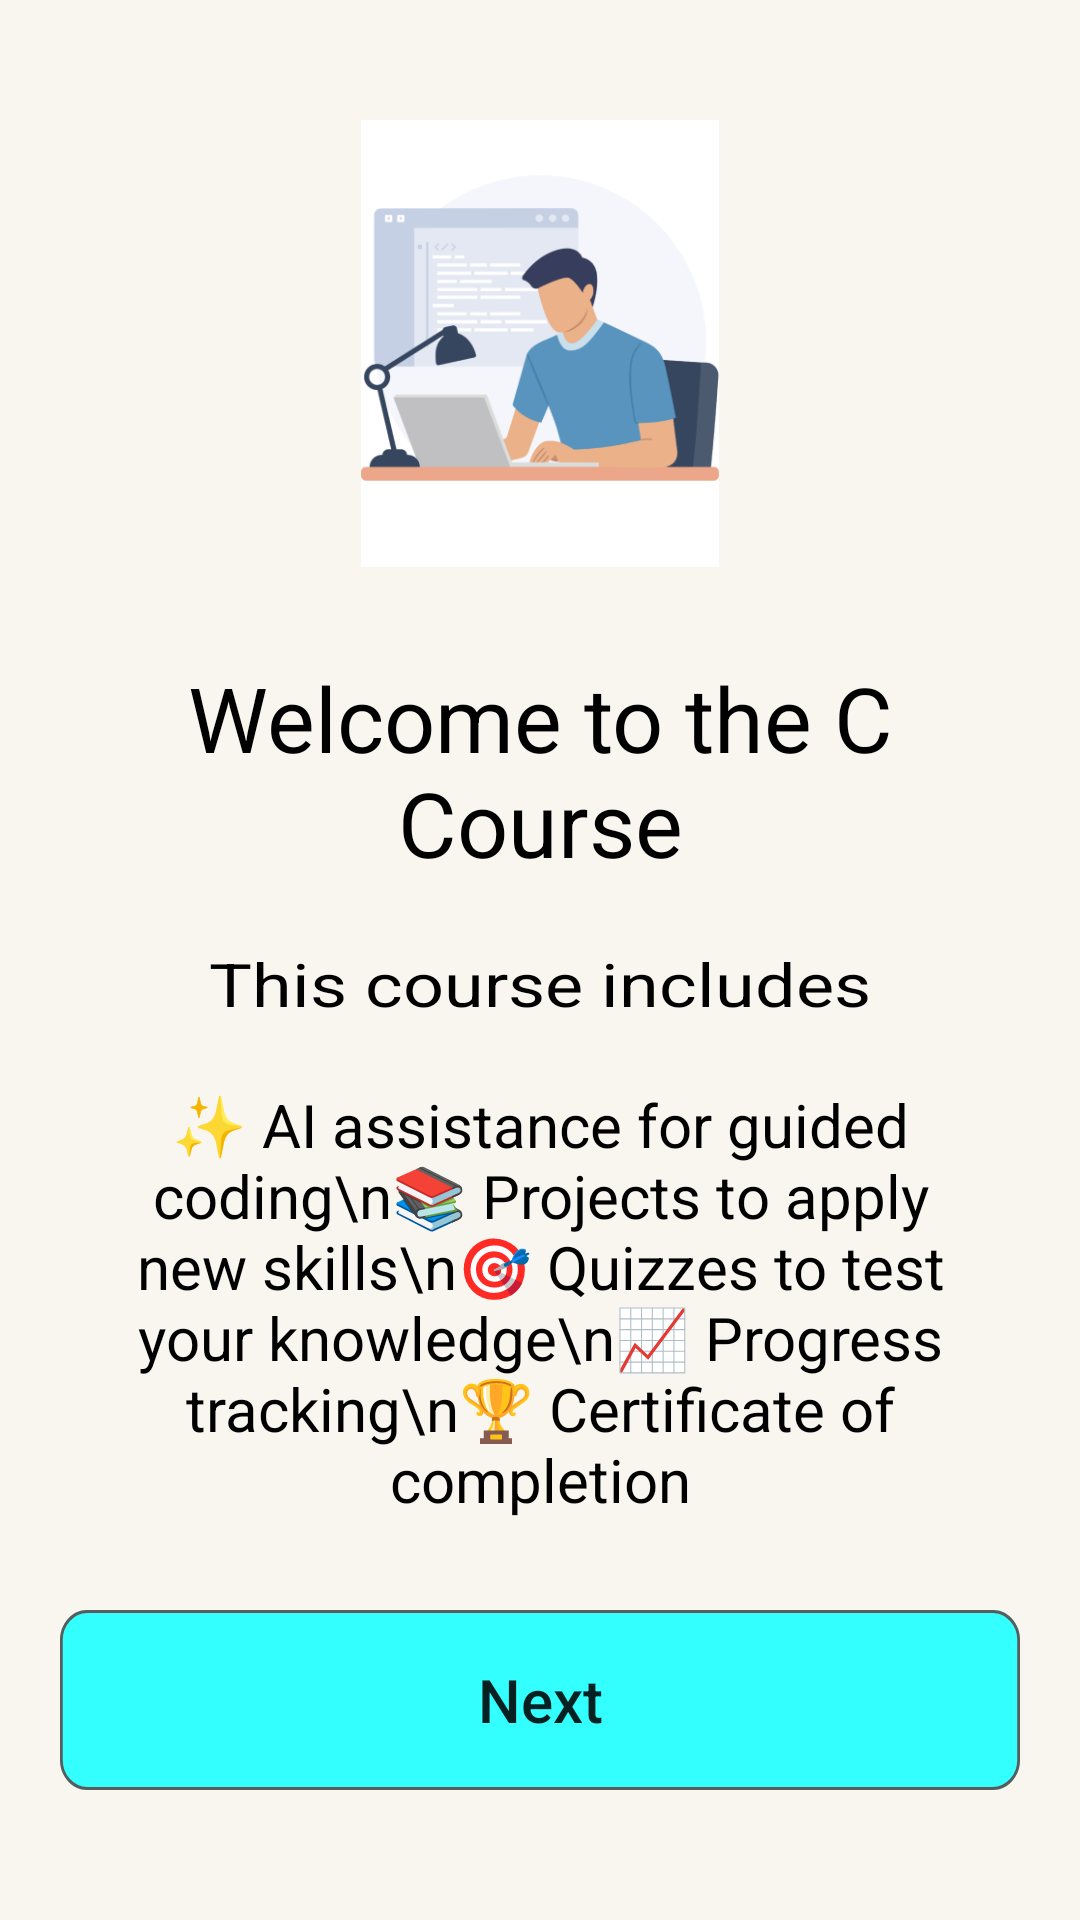

Named icons in this screenshot (1080*1920) and their centers, point (x, y):
study: point (540, 344)
